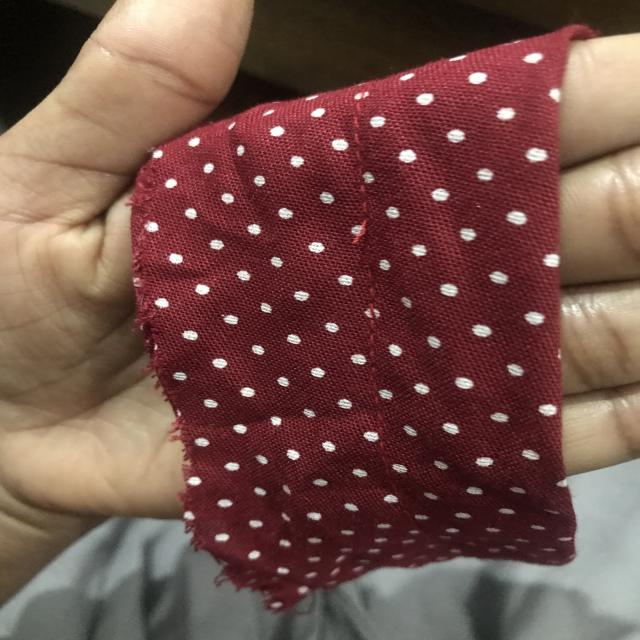broken: (342, 214, 392, 285)
